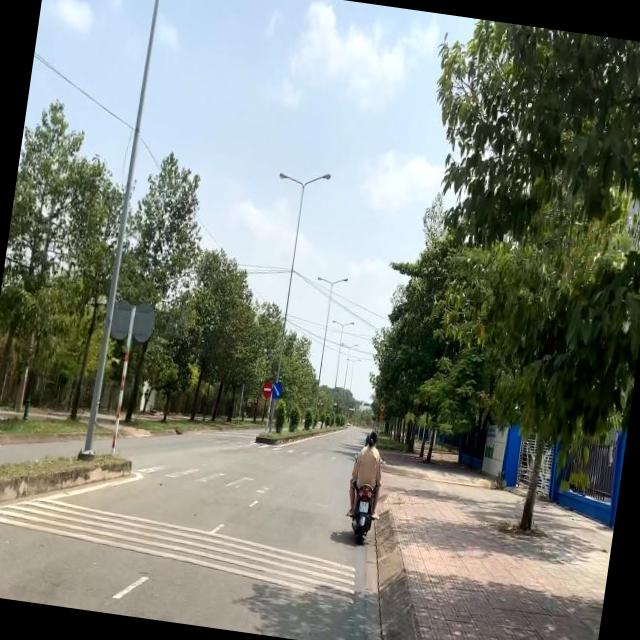P-102: (261, 380, 273, 399)
R-302a: (271, 383, 283, 398)
